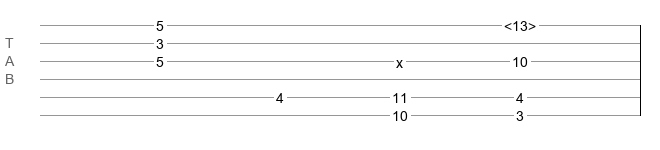10: (392, 108, 408, 118), (512, 54, 528, 64)
11: (392, 90, 408, 100)
3: (156, 36, 164, 46), (516, 108, 524, 118)
4: (276, 90, 284, 100), (516, 90, 524, 100)
5: (156, 18, 164, 28), (156, 54, 164, 64)
harmonic: (504, 18, 536, 28)
x: (396, 55, 403, 63)
